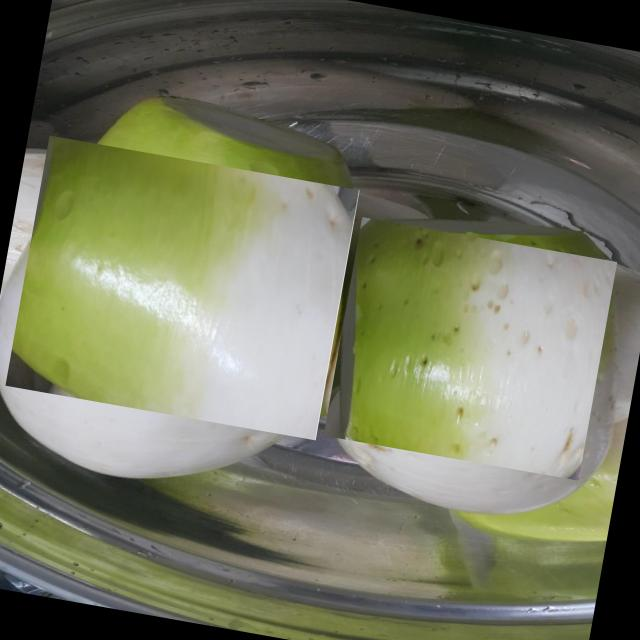radish: (17, 123, 346, 453), (331, 209, 610, 488)
